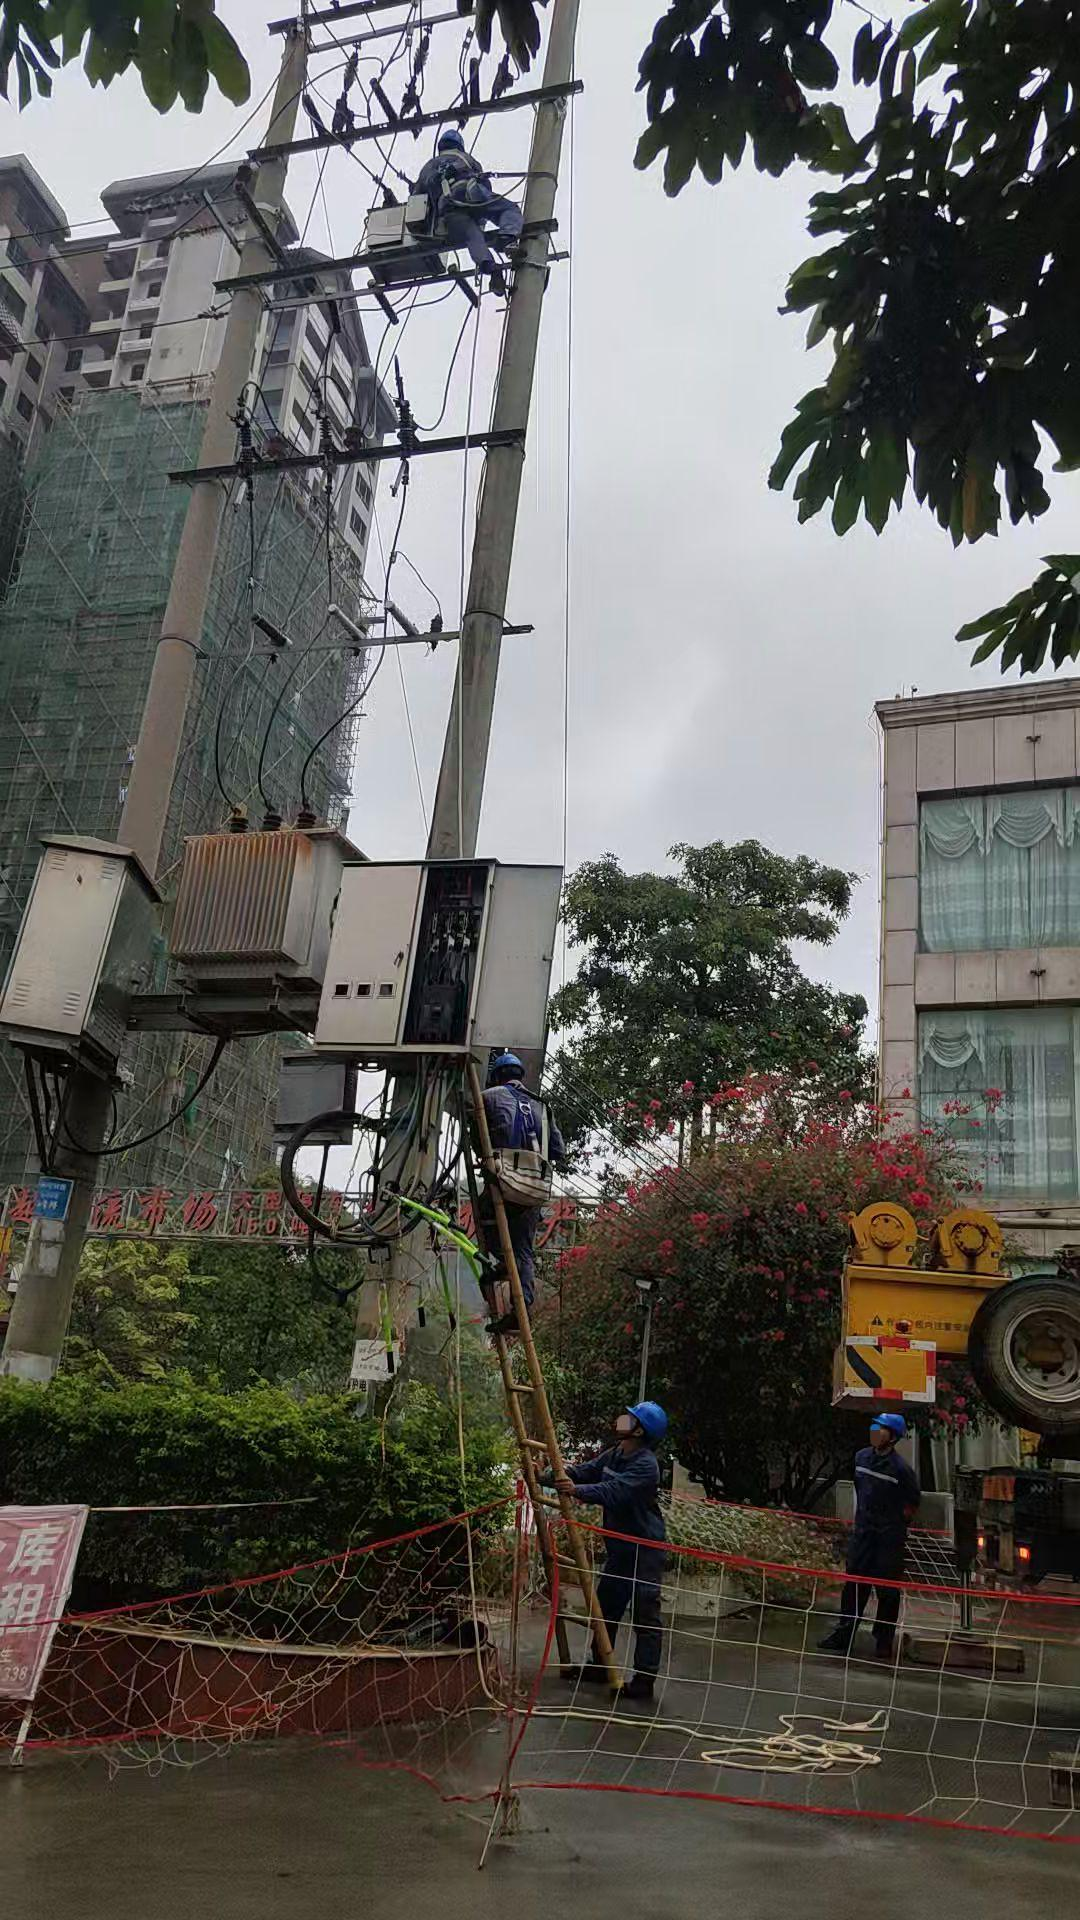halt: (615, 1404, 673, 1451), (872, 1414, 909, 1451), (491, 1054, 527, 1087), (439, 127, 465, 156)
